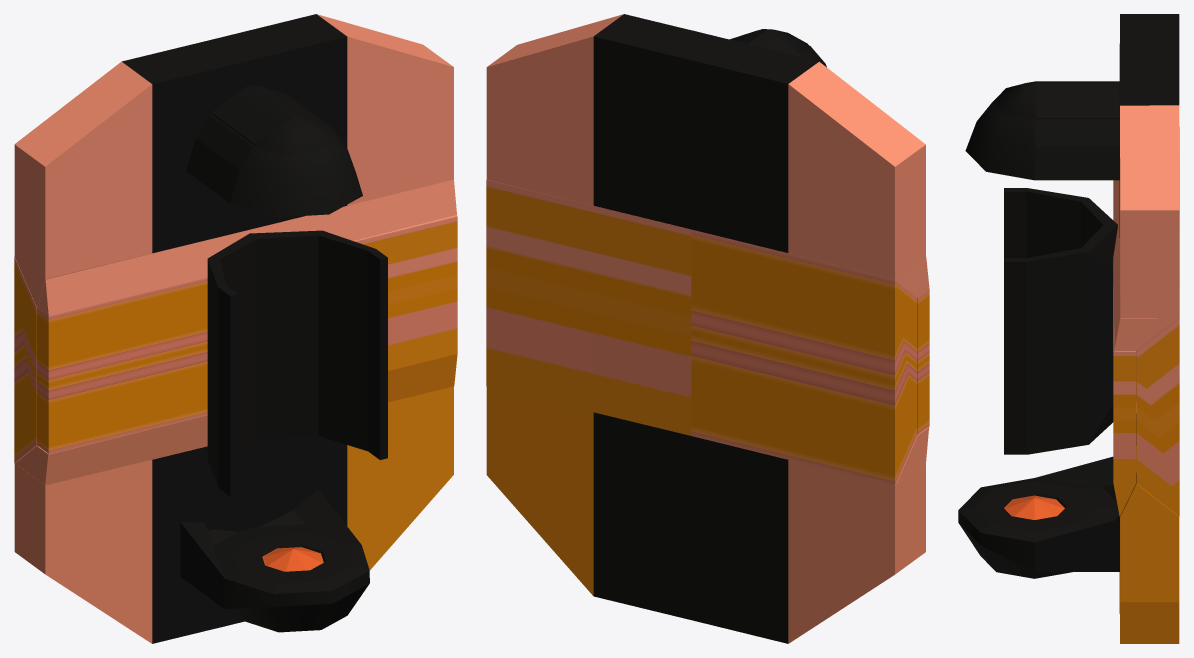
The model's file is Socket.fbx.
The picture shows the model from 3 angles, left to right: view 1: azimuth 30°, elevation 25°; view 2: azimuth 150°, elevation 25°; view 3: azimuth 270°, elevation 25°; orthographic projection. The views are drawn at different scales.
Visible parts, largest first — view 1: Socket Press, Object009, Object007, Object008, Socket Bottom, Sphere001; view 2: Socket Press, Object007, Object008, Sphere001; view 3: Socket Press, Object009, Socket Bottom, Sphere001, Object007.
Boxes of the visible parts, x1,y1,x2,y2 form: Socket Press: [14, 14, 457, 643]; Object009: [207, 230, 387, 496]; Object007: [122, 14, 347, 253]; Object008: [152, 436, 347, 643]; Socket Bottom: [180, 488, 369, 632]; Sphere001: [186, 85, 362, 217]; Socket Press: [486, 14, 929, 643]; Object007: [593, 14, 818, 252]; Object008: [593, 412, 788, 643]; Sphere001: [729, 29, 826, 67]; Socket Press: [1113, 105, 1179, 643]; Object009: [1004, 188, 1117, 454]; Socket Bottom: [958, 456, 1119, 578]; Sphere001: [965, 81, 1119, 180]; Object007: [1119, 14, 1179, 237].
Bounding box in the file's own units: 10.64 × 13.93 × 5.19.
Materials: 3 (1 with a texture image).
